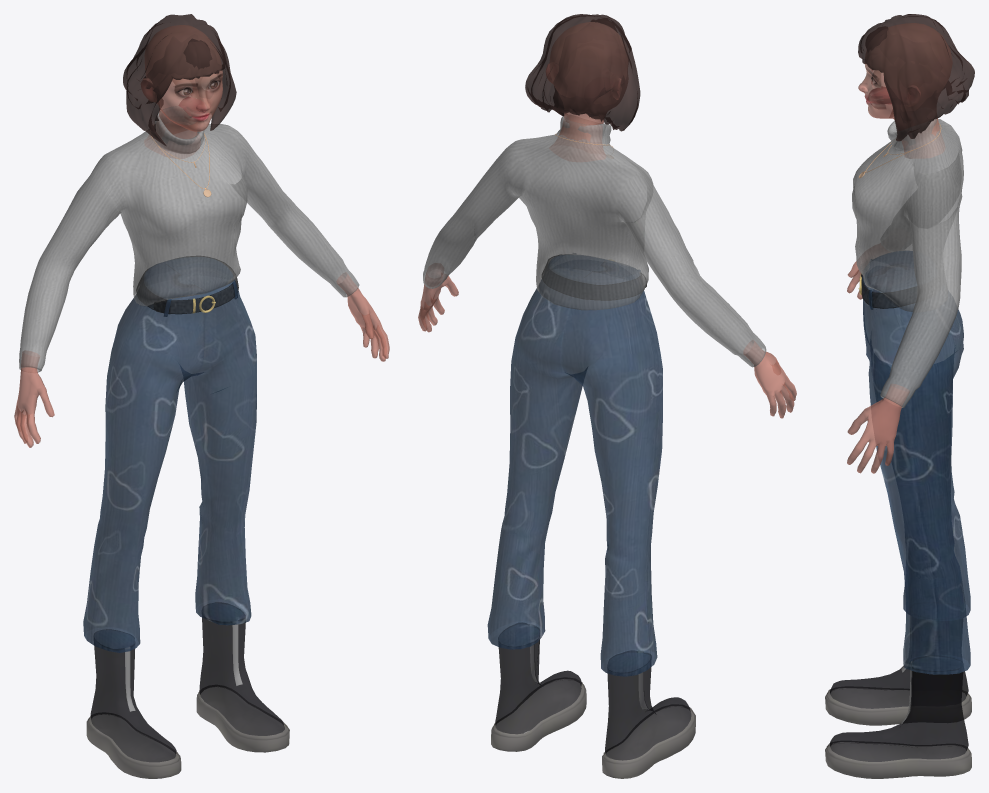
File: woman.obj
3 renders of one model, left to right at view 1: azimuth 30°, elevation 25°; view 2: azimuth 150°, elevation 25°; view 3: azimuth 270°, elevation 25°, orthographic.
Visible parts, largest first — view 1: Object_018, Object_022, Object_020, Object_024, Object_012, Object_016; view 2: Object_018, Object_022, Object_020, Object_024, Object_012, Object_016; view 3: Object_018, Object_022, Object_020, Object_024, Object_012, Object_016.
Boxes of the visible parts, x1=… form: Object_018: x1=83, y1=256, x2=256, y2=652; Object_022: x1=19, y1=106, x2=359, y2=372; Object_020: x1=86, y1=602, x2=289, y2=778; Object_024: x1=123, y1=14, x2=236, y2=146; Object_012: x1=141, y1=25, x2=223, y2=158; Object_016: x1=14, y1=272, x2=389, y2=447; Object_018: x1=487, y1=254, x2=662, y2=676; Object_022: x1=423, y1=115, x2=766, y2=367; Object_020: x1=491, y1=623, x2=695, y2=778; Object_024: x1=525, y1=14, x2=640, y2=131; Object_012: x1=546, y1=22, x2=627, y2=161; Object_016: x1=418, y1=263, x2=796, y2=418; Object_018: x1=858, y1=251, x2=970, y2=674; Object_022: x1=852, y1=119, x2=963, y2=407; Object_020: x1=825, y1=655, x2=971, y2=778; Object_024: x1=858, y1=14, x2=974, y2=141; Object_012: x1=858, y1=23, x2=952, y2=158; Object_016: x1=847, y1=261, x2=909, y2=473.
Size of the model in its own units: 36.53 by 69 by 12.94.
Materials: 8 (8 with a texture image).
